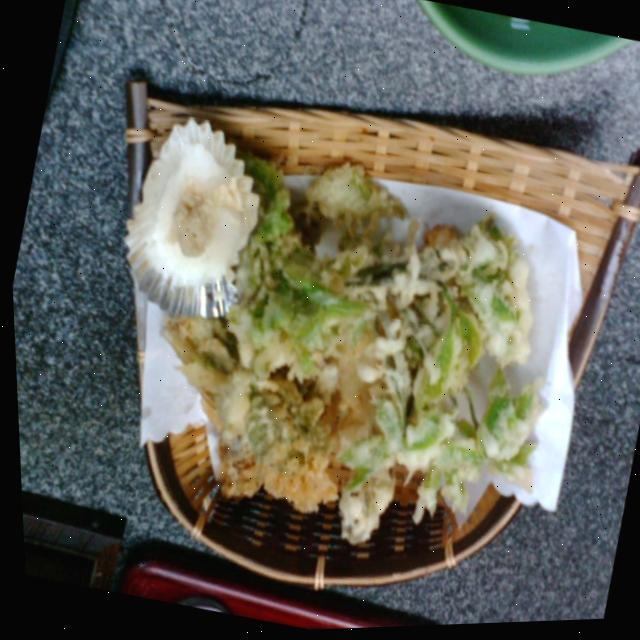蔬菜料理: (77, 86, 494, 550)
